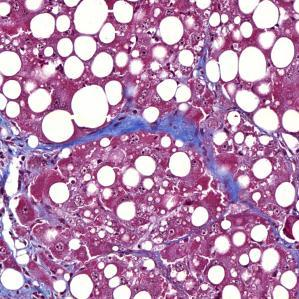fibrosis: (0, 174, 49, 272), (113, 112, 200, 149)
